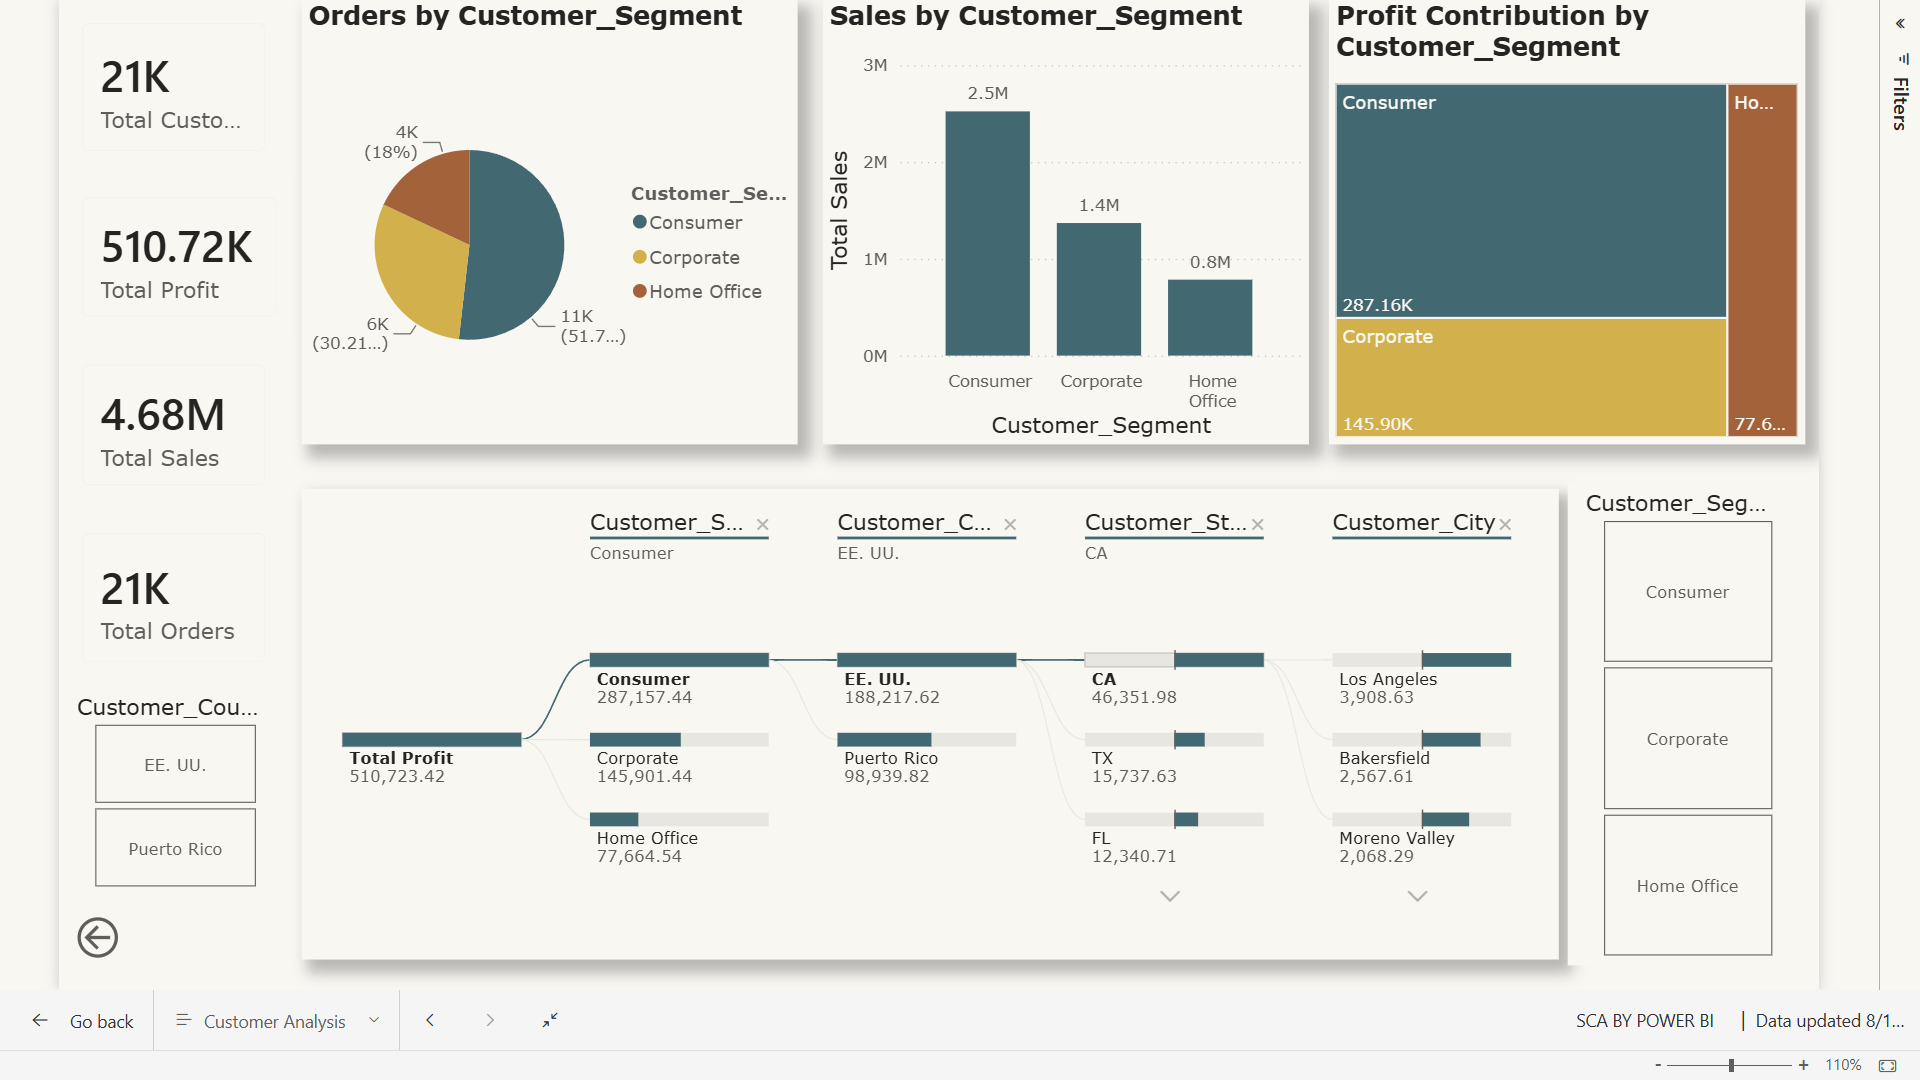

Layout of this report page (visuals, bound fields, positions):
{"tool":"powerbi","page":{"name":"Customer Analysis","canvas":[1280,720],"ordinal":3},"visuals":[{"type":"cardVisual","fields":{"Data":["Dim_Custumor.Total Customers"]},"box":[0,0,167.5,127.2],"z":0},{"type":"cardVisual","fields":{"Data":["Fact_Order.Total Sales"]},"box":[0,248.2,167.5,122.3],"z":1},{"type":"cardVisual","fields":{"Data":["Fact_Order.Total Orders"]},"box":[0,370.5,167.5,128.4],"z":2},{"type":"cardVisual","fields":{"Data":["Fact_Order.Total Profit"]},"box":[0,126.7,176.1,121.9],"z":3},{"type":"pieChart","title":"Orders by Customer_Segment","fields":{"Category":["Dim_Custumor.Customer_Segment"],"Y":["Fact_Order.Total Orders"]},"box":[176.1,0,360.7,322.8],"z":4},{"type":"clusteredColumnChart","title":"Sales by Customer_Segment","fields":{"Category":["Dim_Custumor.Customer_Segment"],"Y":["Fact_Order.Total Sales"]},"box":[555.2,0,353.4,322.8],"z":5},{"type":"treemap","title":"Profit Contribution by Customer_Segment","fields":{"Group":["Dim_Custumor.Customer_Segment"],"Values":["Fact_Order.Total Profit"]},"box":[923.2,0,346.1,322.8],"z":6},{"type":"decompositionTreeVisual","fields":{"Analyze":["Fact_Order.Total Profit"],"ExplainBy":["Dim_Custumor.Customer_Segment","Dim_Custumor.Customer_Country","Dim_Custumor.Customer_State","Dim_Custumor.Customer_City"]},"box":[176.1,355.8,914.7,342.4],"z":7},{"type":"slicer","fields":{"Values":["Dim_Custumor.Customer_Segment"]},"box":[1096.9,351,172.4,351],"z":8},{"type":"slicer","fields":{"Values":["Dim_Custumor.Customer_Country"]},"box":[0,498.9,167.5,152.9],"z":9},{"type":"actionButton","box":[8.6,661.6,100,40],"z":10}]}

Visuals, with their boxes on the page's 1280x720 design canvas (x1, y1, x2, y2). These are canvas units, not pixel positions in the 1920x1080 screenshot, which may show the page scaled, cropped or inside an application window:
cardVisual - Dim_Custumor.Total Customers: 0, 0, 168, 127
cardVisual - Fact_Order.Total Sales: 0, 248, 168, 370
cardVisual - Fact_Order.Total Orders: 0, 370, 168, 499
cardVisual - Fact_Order.Total Profit: 0, 127, 176, 249
"Orders by Customer_Segment" pieChart: 176, 0, 537, 323
"Sales by Customer_Segment" clusteredColumnChart: 555, 0, 909, 323
"Profit Contribution by Customer_Segment" treemap: 923, 0, 1269, 323
decompositionTreeVisual - Fact_Order.Total Profit x Dim_Custumor.Customer_Segment: 176, 356, 1091, 698
slicer - Dim_Custumor.Customer_Segment: 1097, 351, 1269, 702
slicer - Dim_Custumor.Customer_Country: 0, 499, 168, 652
actionButton: 9, 662, 109, 702
